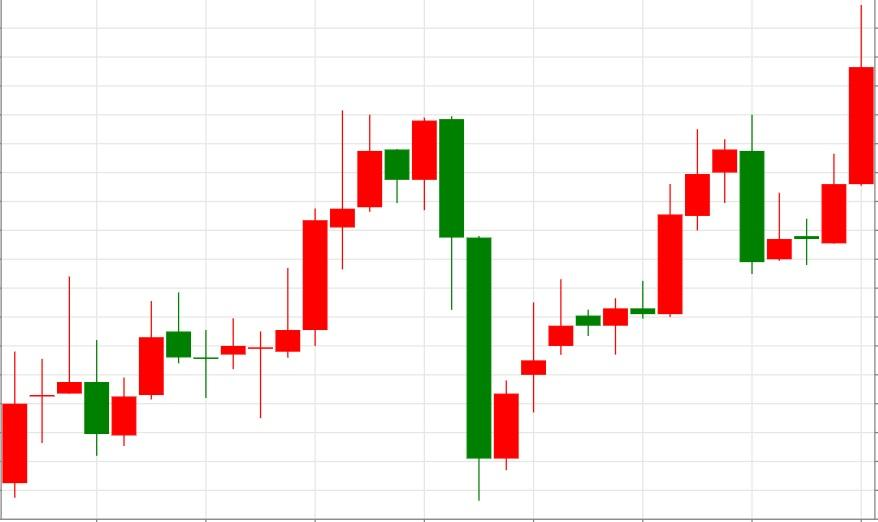bearish_engulfing_fall: (247, 109, 465, 418)
